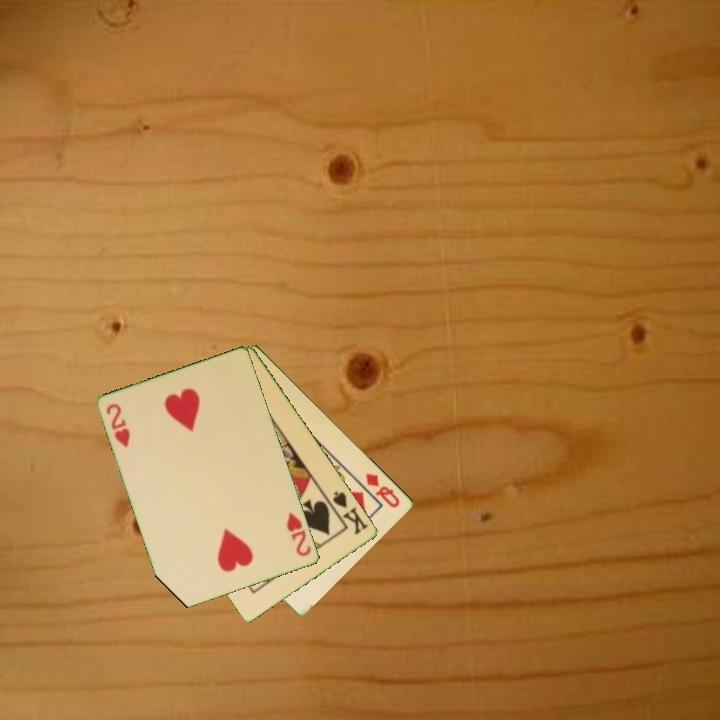2h: (283, 509, 314, 560), (103, 400, 134, 451)
Ks: (324, 488, 371, 538)
Qd: (362, 469, 403, 511)
